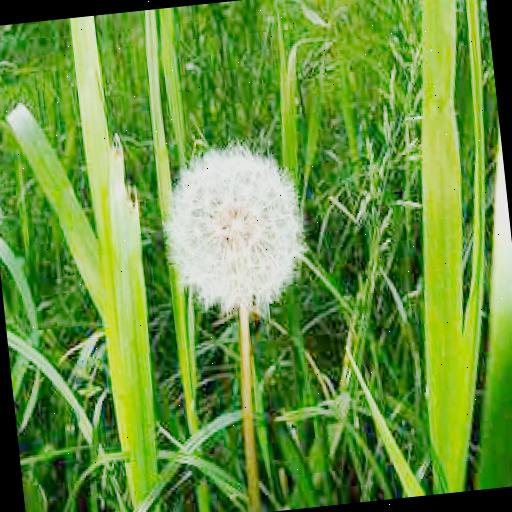dandelion: (166, 145, 304, 307)
